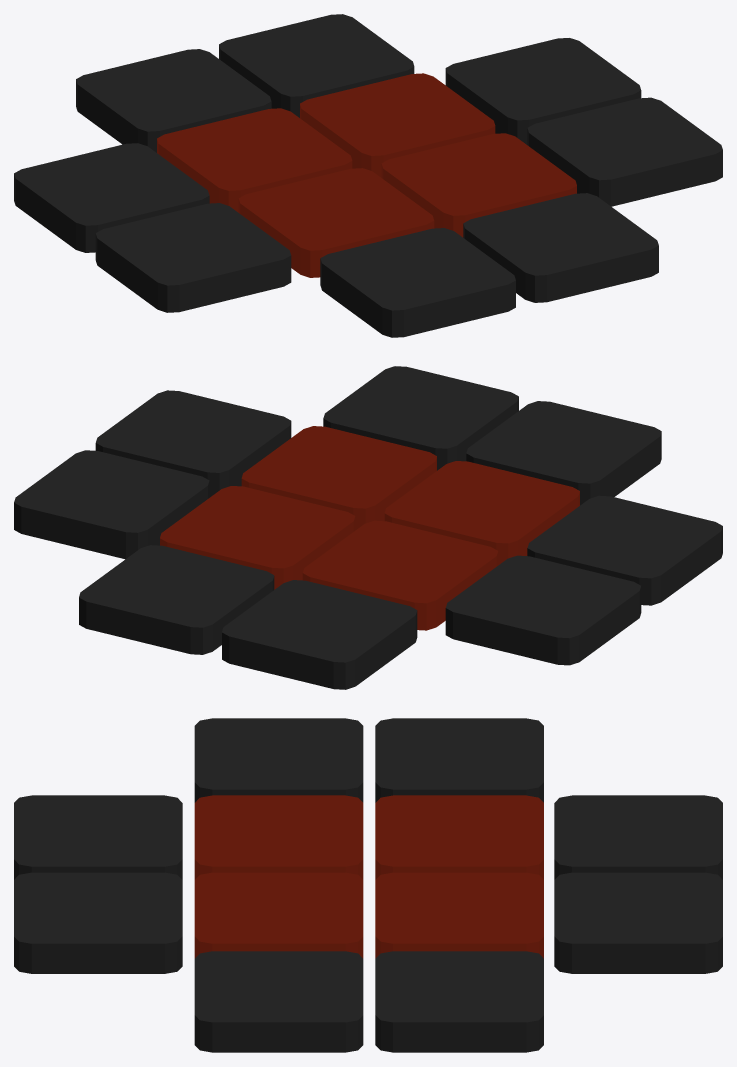
The model's file is estate.glb.
3 renders of one model, top to bottom at view 1: azimuth 30°, elevation 25°; view 2: azimuth 150°, elevation 25°; view 3: azimuth 270°, elevation 25°, orthographic. The views are drawn at different scales.
Parts seen in each view (by area): view 1: state; view 2: state; view 3: state.
Boxes of the visible parts, x1,y1,x2,y2 form: state: (14, 14, 722, 337); state: (14, 366, 722, 689); state: (14, 718, 722, 1052).
Size of what is drawn, in the model's own units: 2.67 by 0.1235 by 2.63.
2 materials, 2 textured.
